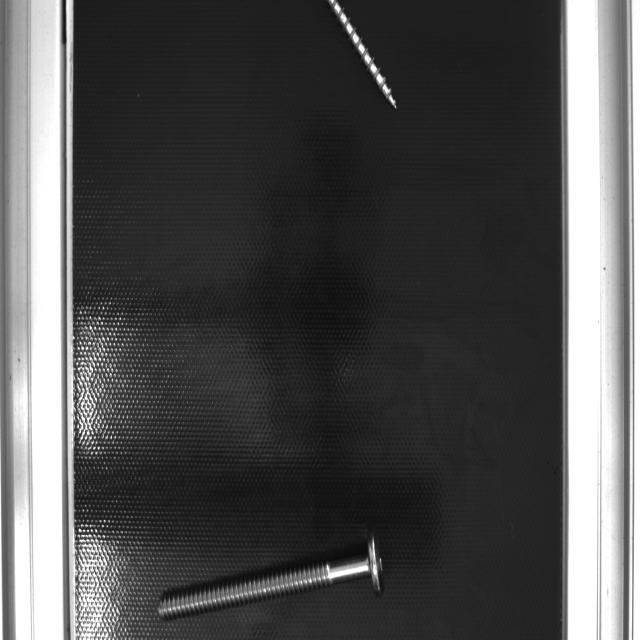bulon: (154, 555, 370, 624)
vit xoan: (326, 0, 401, 112)
